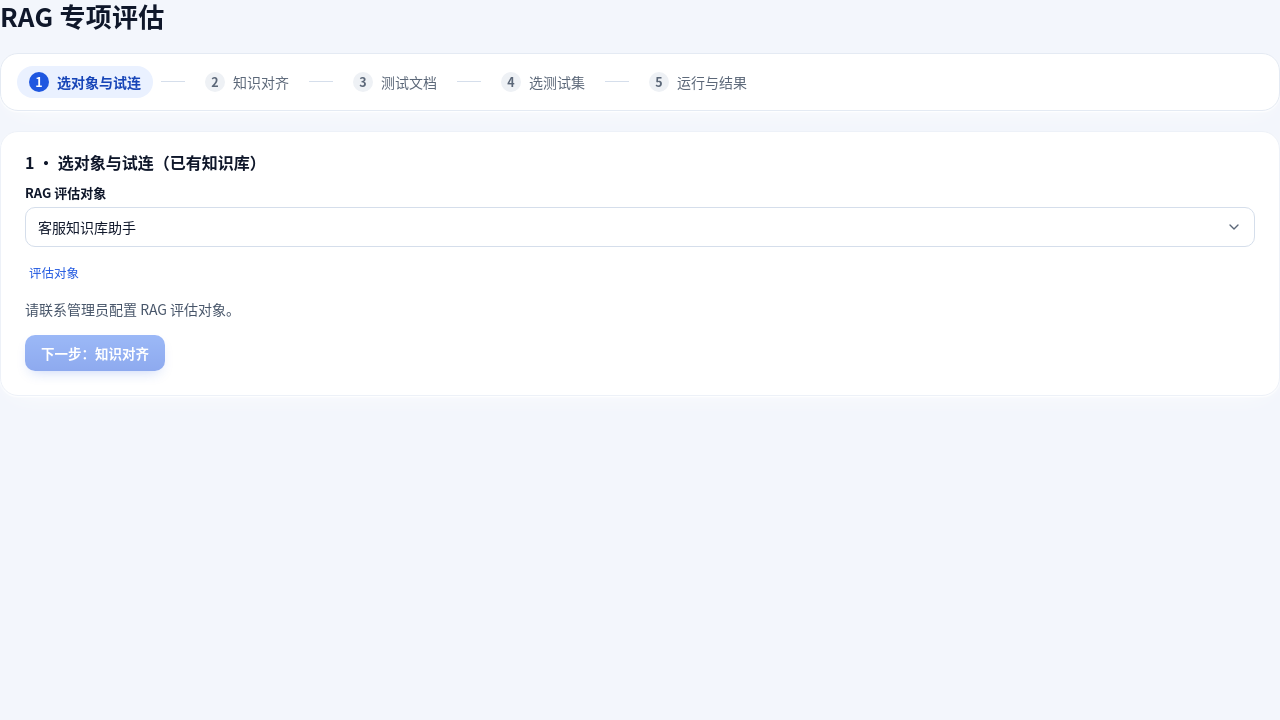
Scenario: RagEvalPage 运行与结果 › 必需配置未就绪、测试集无题时列出阻塞原因并禁用发起
Click the button "5 运行与结果" at (698, 82), box left=637, top=66, right=759, bottom=98
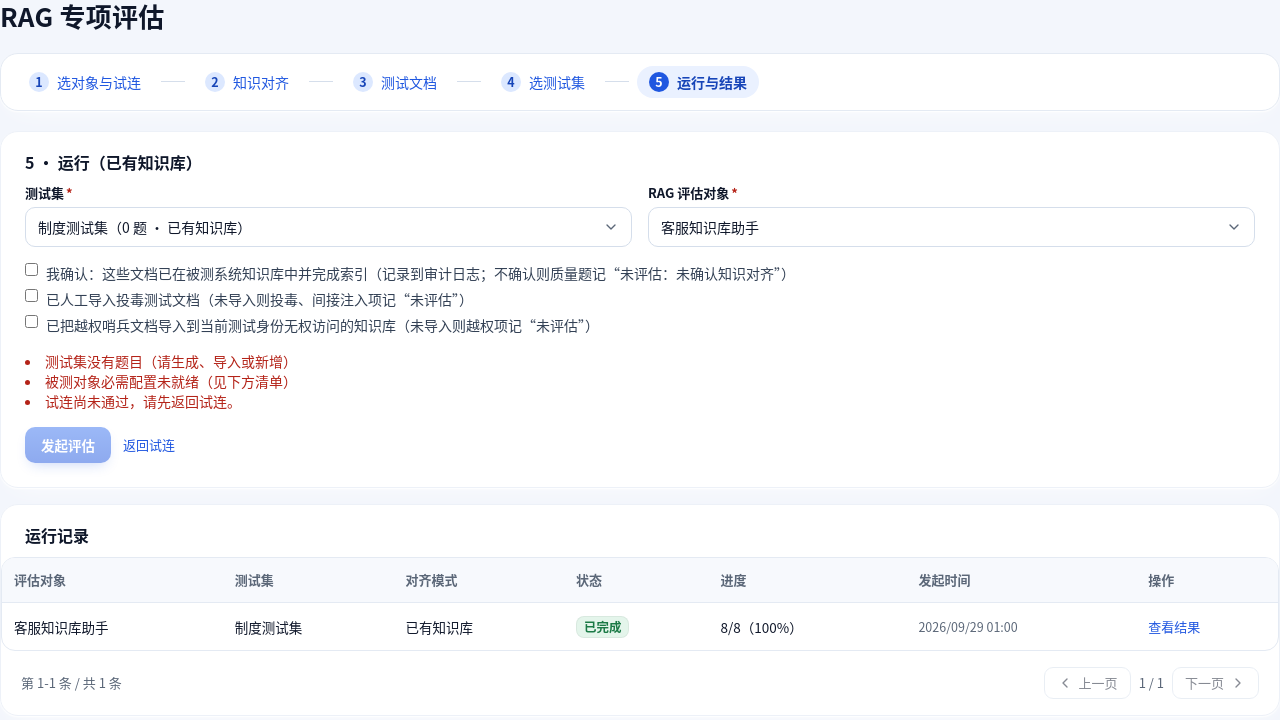
Expected: the list item "测试集没有题目（请生成、导入或新增）" is shown, left=45, top=351, right=297, bottom=371
Expected: the list item "被测对象必需配置未就绪（见下方清单）" is shown, left=45, top=371, right=297, bottom=391
Expected: the button "发起评估" is disabled, left=25, top=427, right=111, bottom=463
